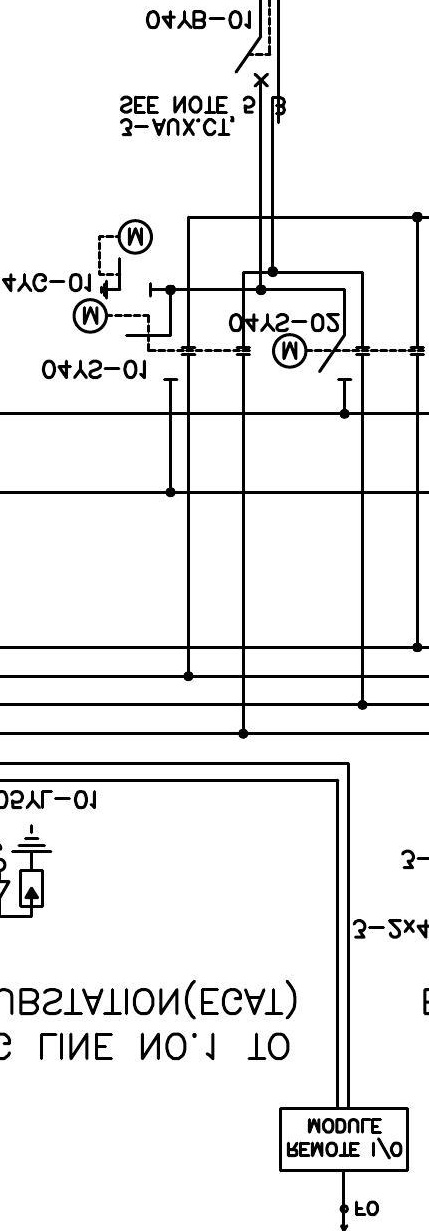115_1way_ds_w_motor: (72, 297, 179, 382), (271, 332, 354, 382)
115_breaker: (234, 35, 269, 88)
115_gs_w_motor: (98, 218, 154, 301)
115_la: (10, 823, 53, 909)
remote_io_module: (278, 1106, 409, 1172)
